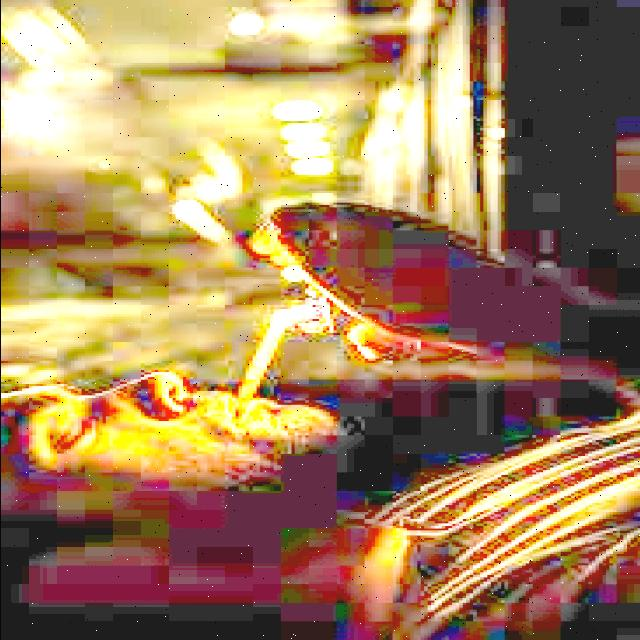api: (260, 304, 330, 341)
